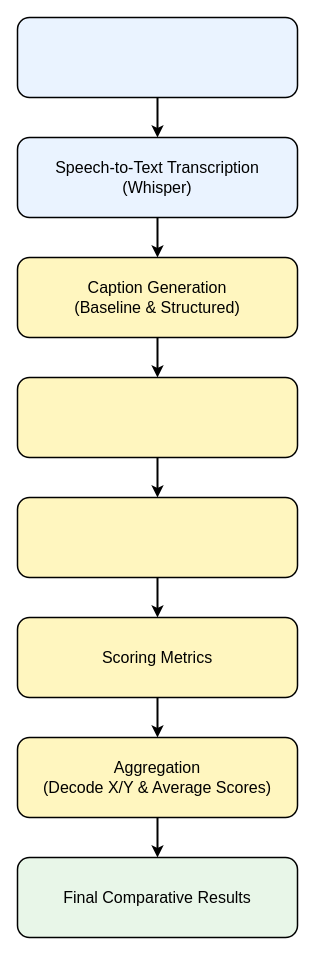
The diagram is 316 pixels wide and 956 high, and some of its shapes have lost their labels. Each missing label, with the centre of its shape:
Audio Clips Dataset: (157,57)
Human Evaluation (5 Evaluators): (157,537)
X/Y Randomization: (157,417)
